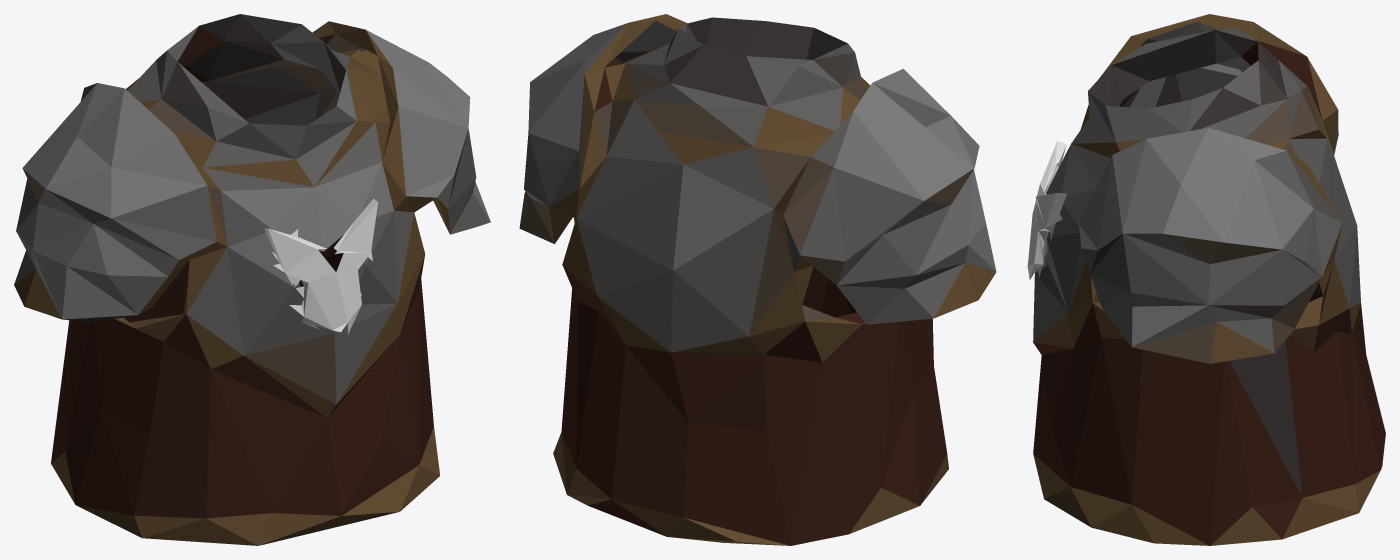
The model's file is aiwpn_body.glb.
3 views of the same model, side by side, from view 1: azimuth 30°, elevation 25°; view 2: azimuth 150°, elevation 25°; view 3: azimuth 270°, elevation 25° (orthographic). The views are drawn at different scales.
Visible parts, largest first — view 1: ca_aiwpn_body; view 2: ca_aiwpn_body; view 3: ca_aiwpn_body.
Part boxes in pixels (x1,y1,x2,y2): ca_aiwpn_body: (14, 14, 490, 545); ca_aiwpn_body: (519, 14, 996, 545); ca_aiwpn_body: (1026, 14, 1385, 545).
Size of the model in its own units: 0.5395 by 0.5 by 0.3901.
